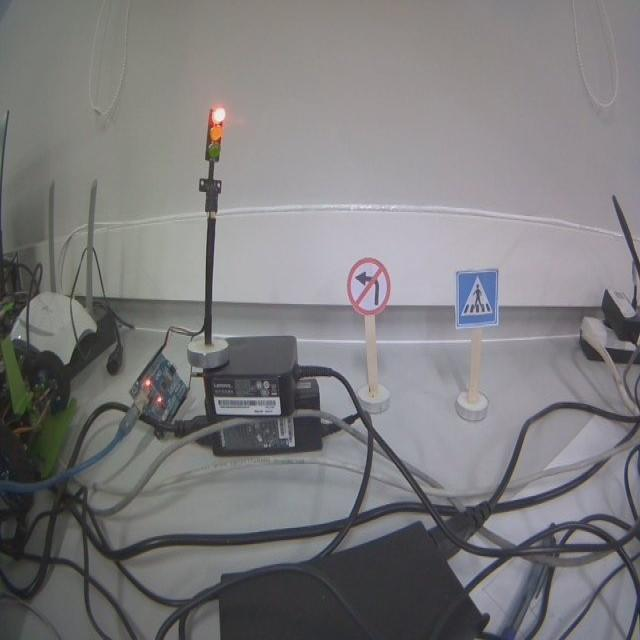Dilarang Belok Kiri: (347, 257, 391, 316)
Lampu Merah: (205, 107, 224, 161)
Rambu Penyebrangan: (455, 268, 499, 328)
